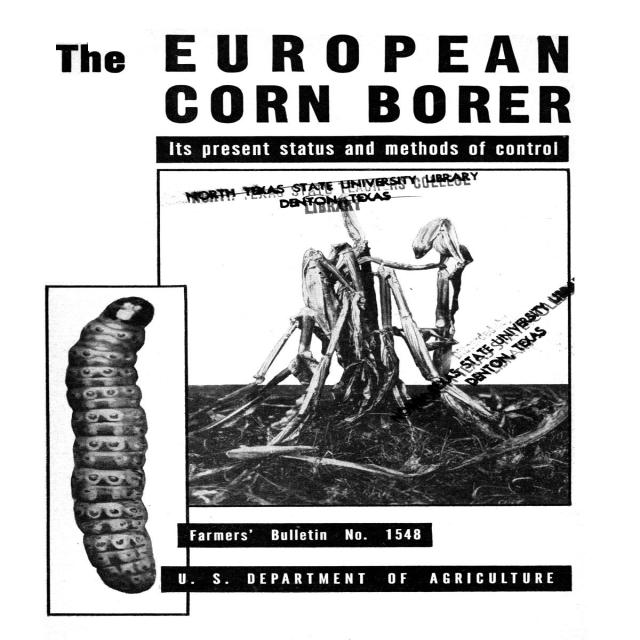cornborer-Larva-: (54, 290, 163, 601)
